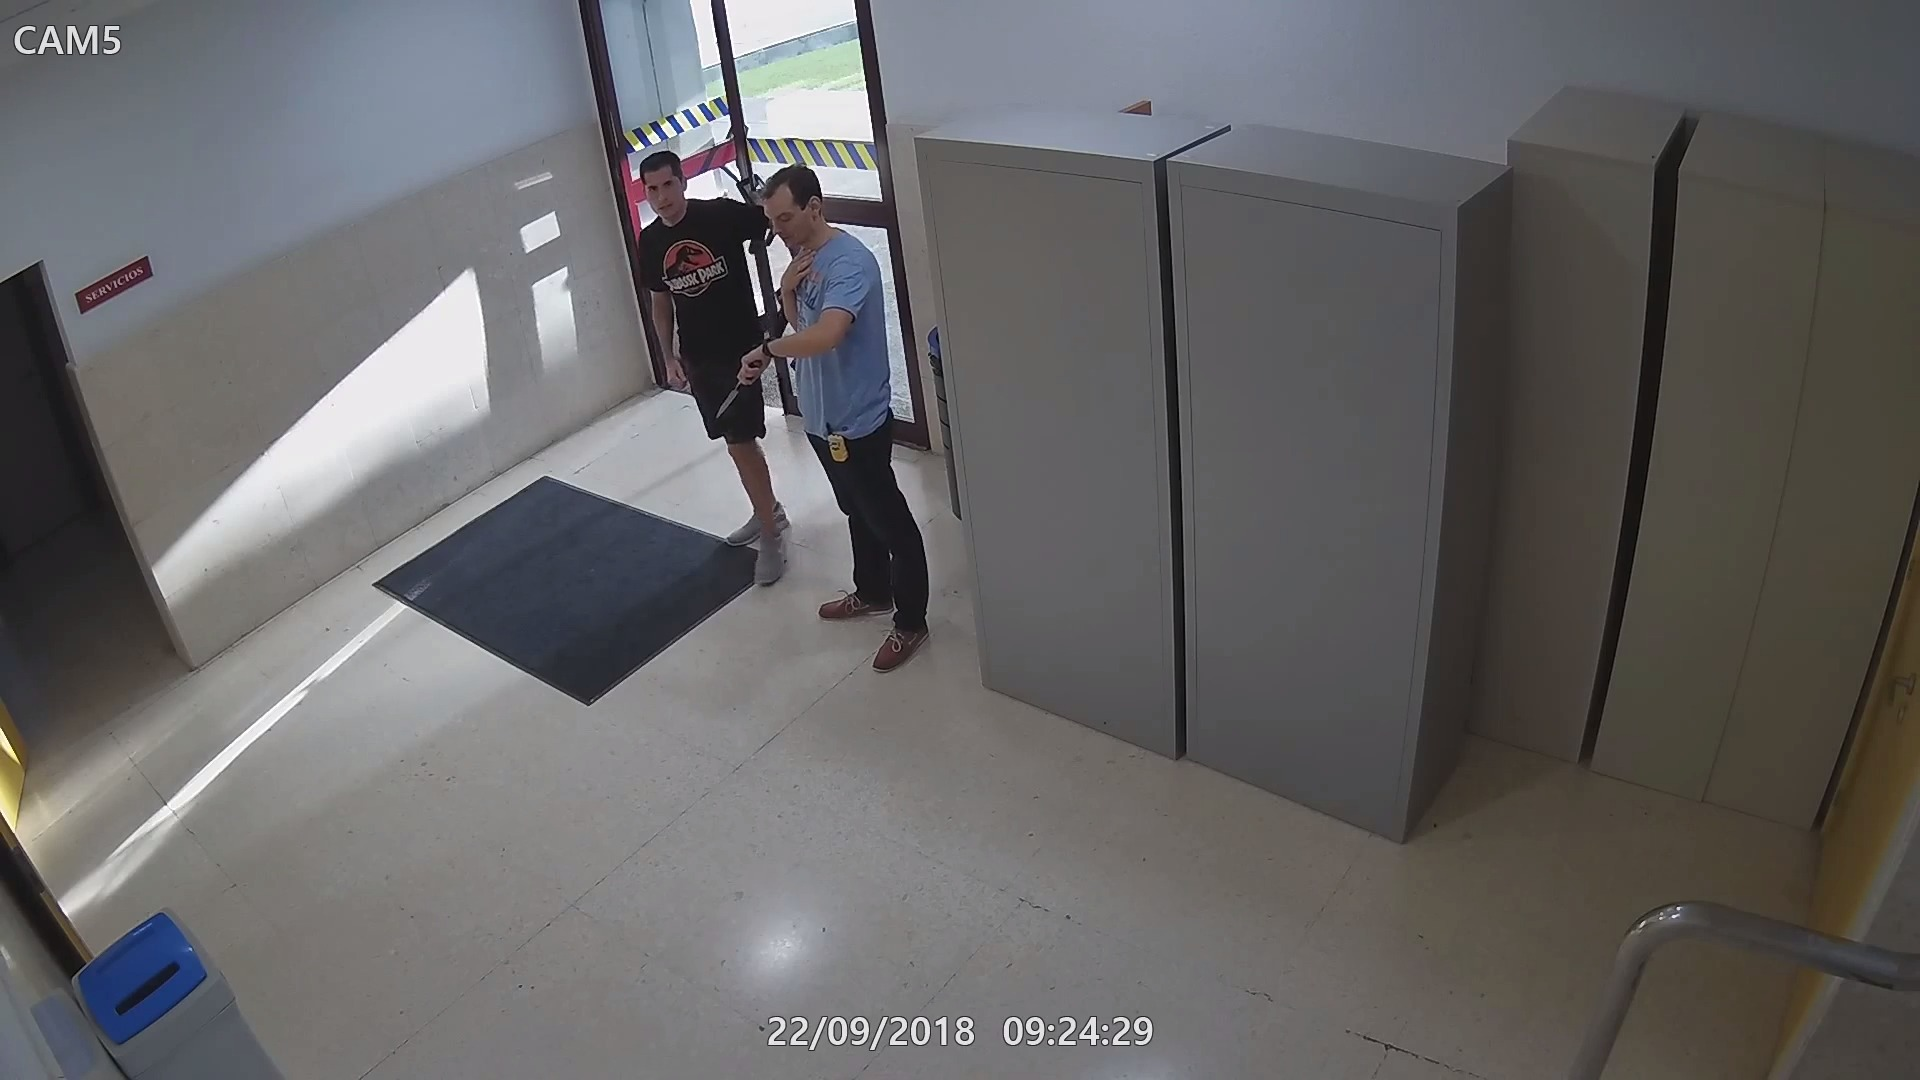Handgun: (767, 280, 791, 339)
Knife: (712, 352, 766, 417)
